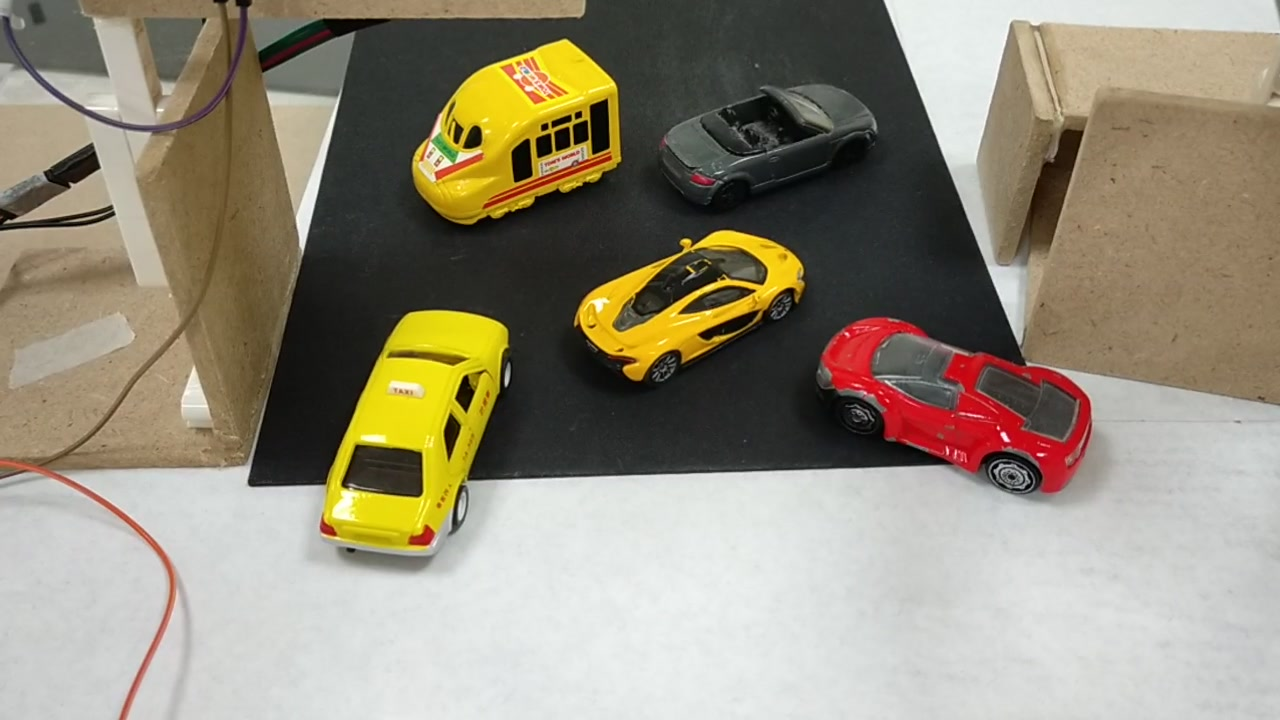car: (807, 319, 1093, 497), (321, 321, 512, 556), (559, 238, 809, 380), (638, 82, 881, 206)
